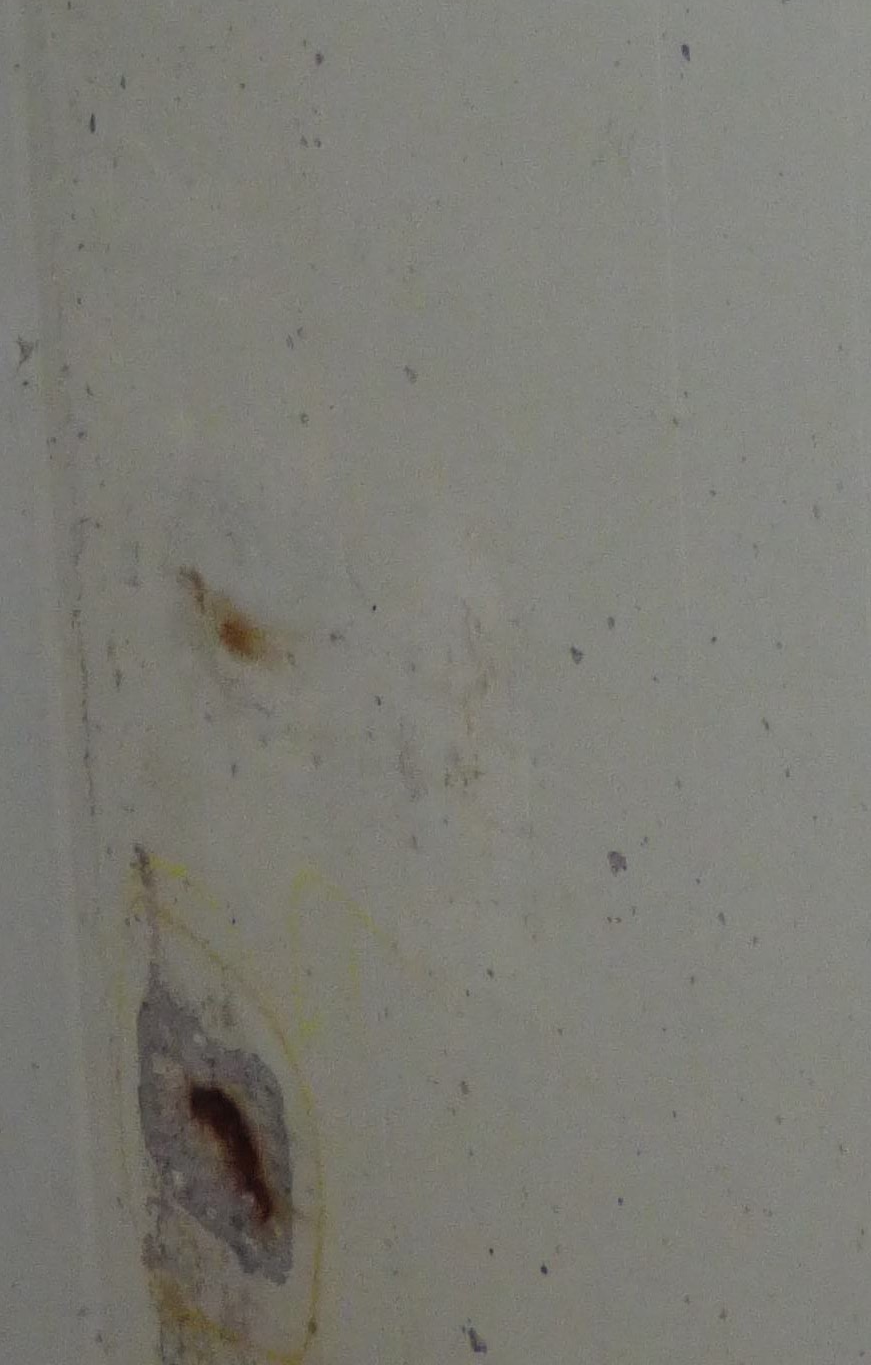Corrosion: (217, 619, 263, 661)
Exposed reinforcement: (189, 1080, 274, 1225)
Spalling: (136, 961, 297, 1290)
